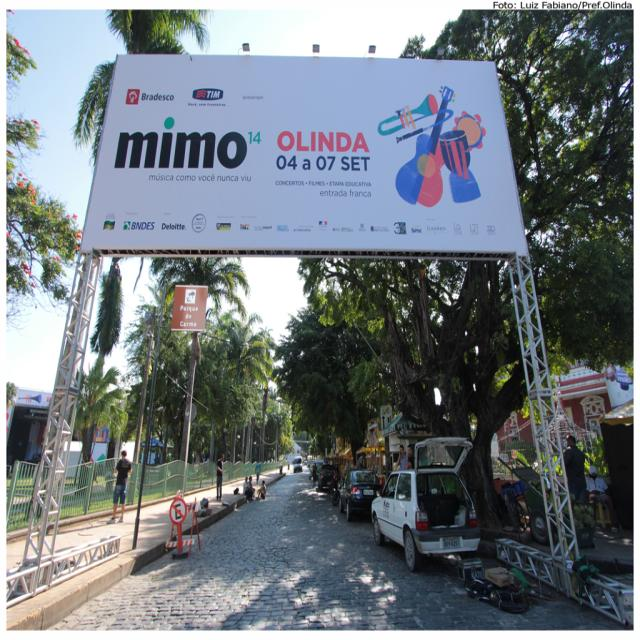car: (368, 435, 478, 572)
